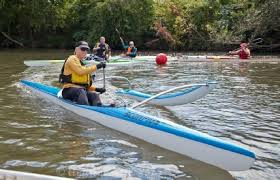buoy: (155, 53, 168, 65)
